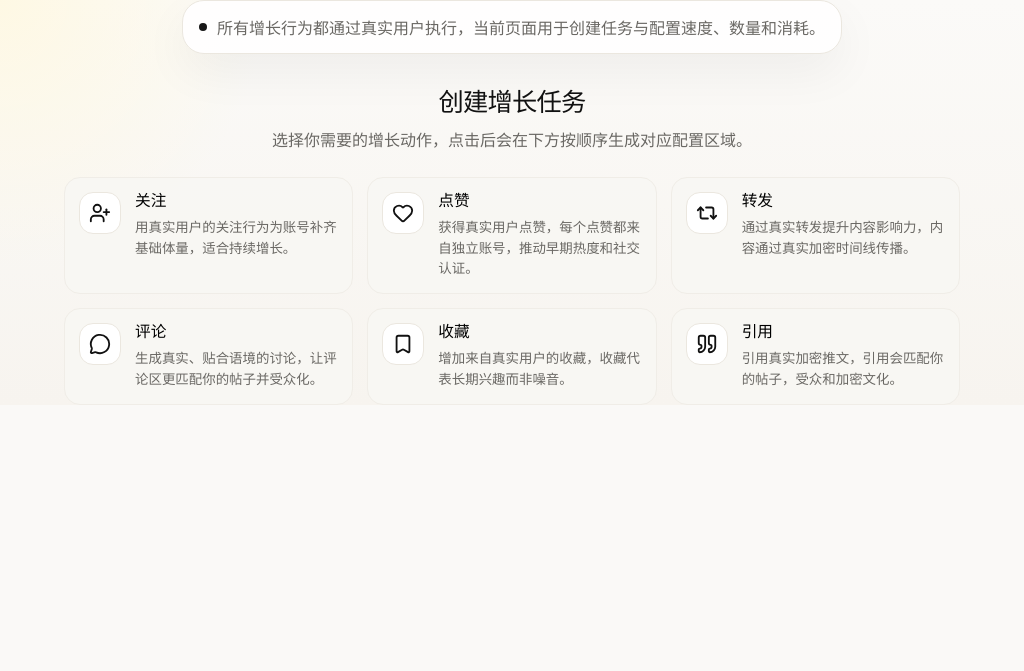
Test: ServicesPage › adds matching task panels when service cards are selected
Click the button "关注 用真实用户的关注行为为账号补齐基础体量，适合持续增长。". click: click(209, 236)
box: x1=64 y1=177 x2=353 y2=294
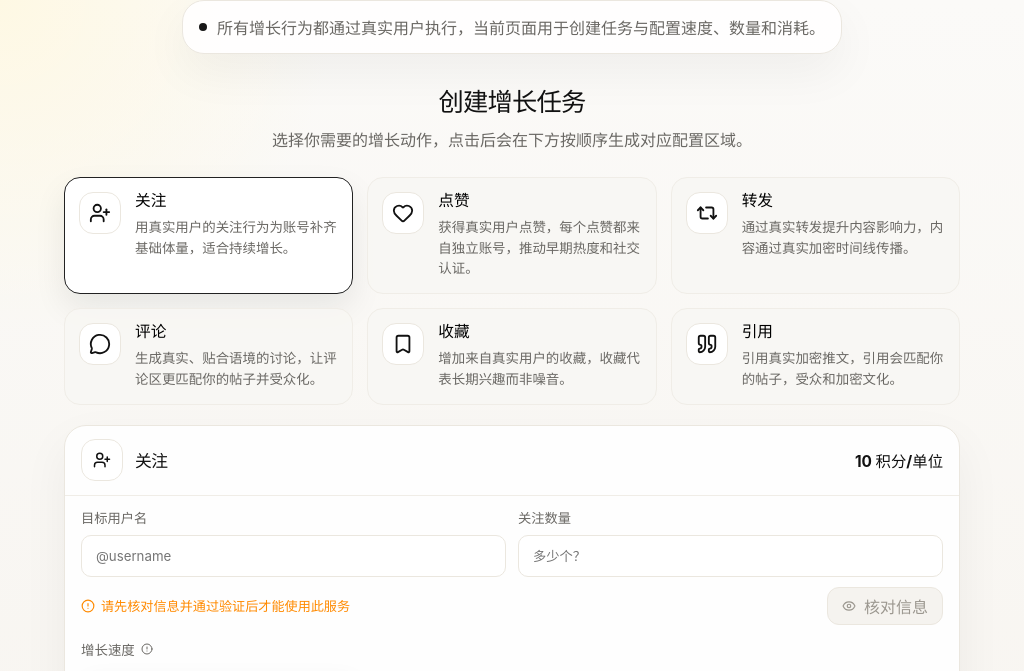
Expected: the text "关注数量" is shown, x1=518 y1=510 x2=571 y2=526
Expected: the field with placeholder "@username" is shown, x1=81 y1=535 x2=506 y2=577
Click the button "点赞 获得真实用户点赞，每个点赞都来自独立账号，推动早期热度和社交认证。". click: click(512, 236)
box: x1=367 y1=177 x2=657 y2=294
(page scrolled)
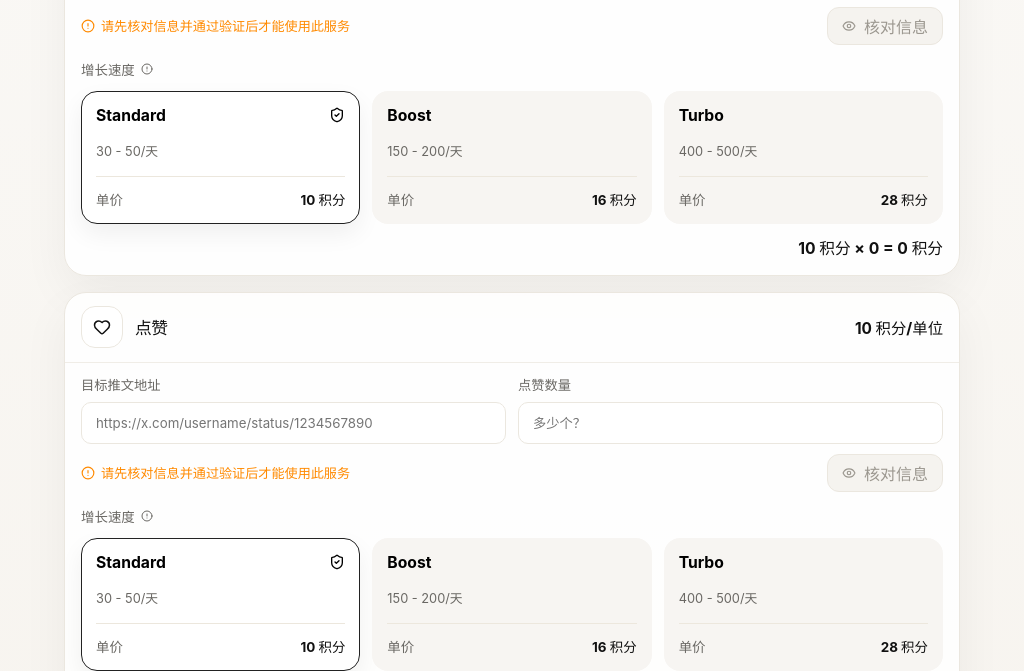
Expected: the text "点赞数量" is shown, x1=518 y1=377 x2=571 y2=393
Expected: the number of fields with placeholder "https://x.com/username/status/1234567890" is 1, x1=81 y1=402 x2=506 y2=444
